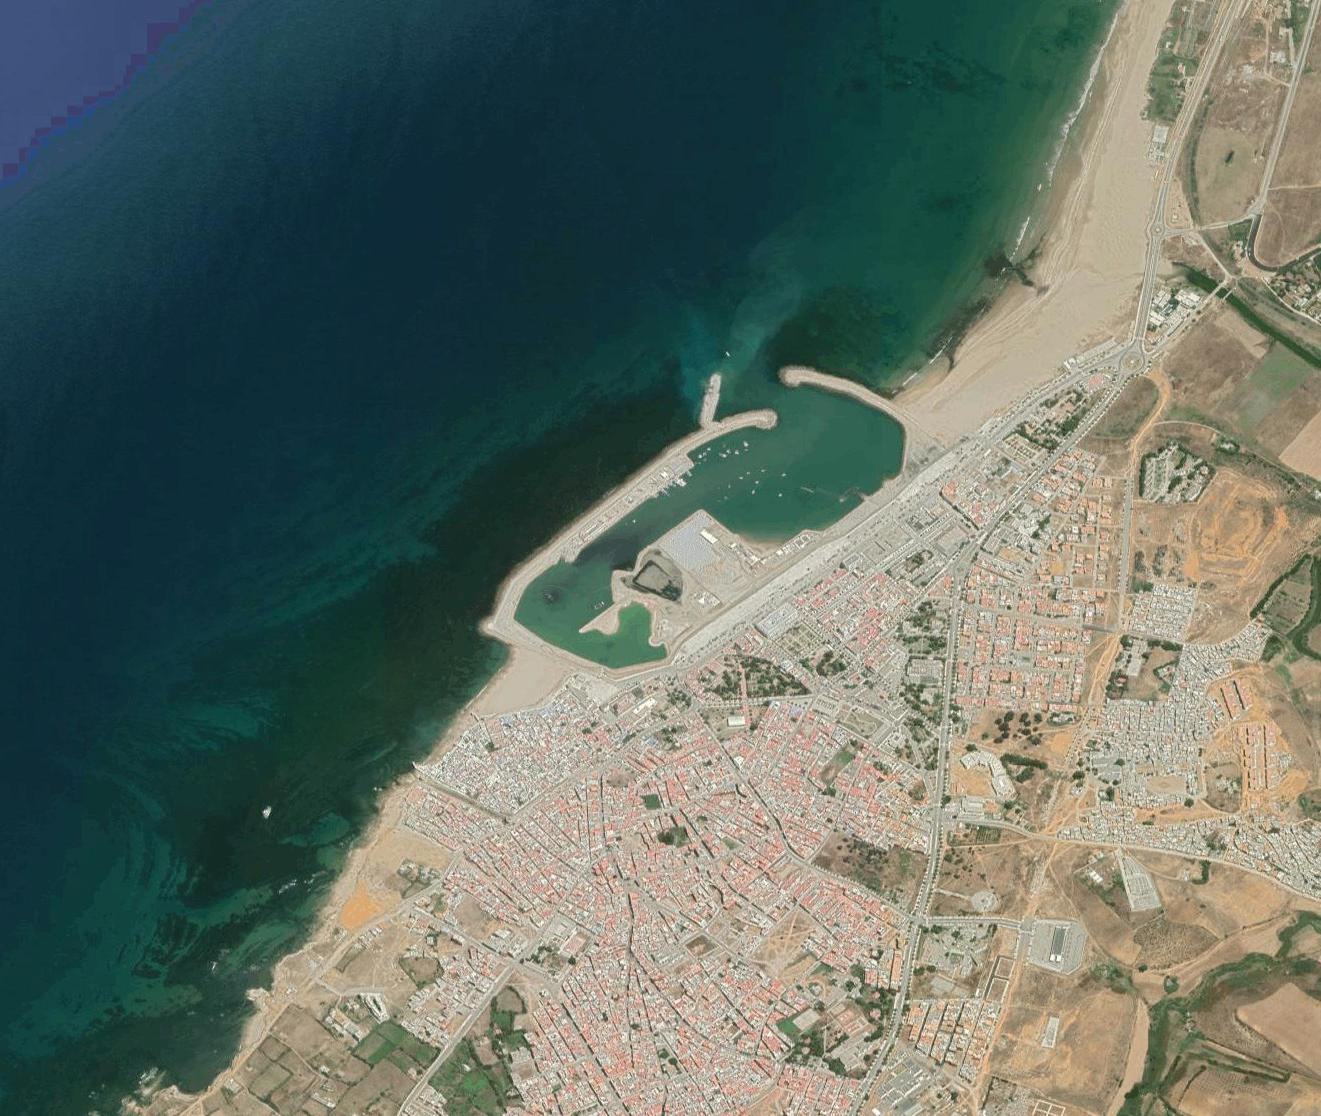harbor: (475, 337, 927, 673)
